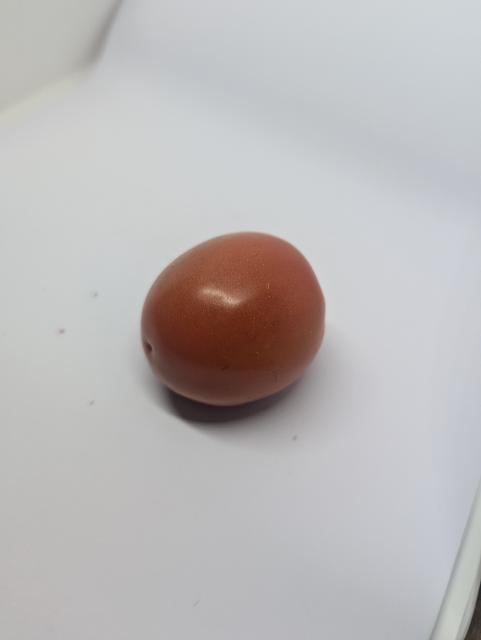red: (139, 231, 329, 411)
